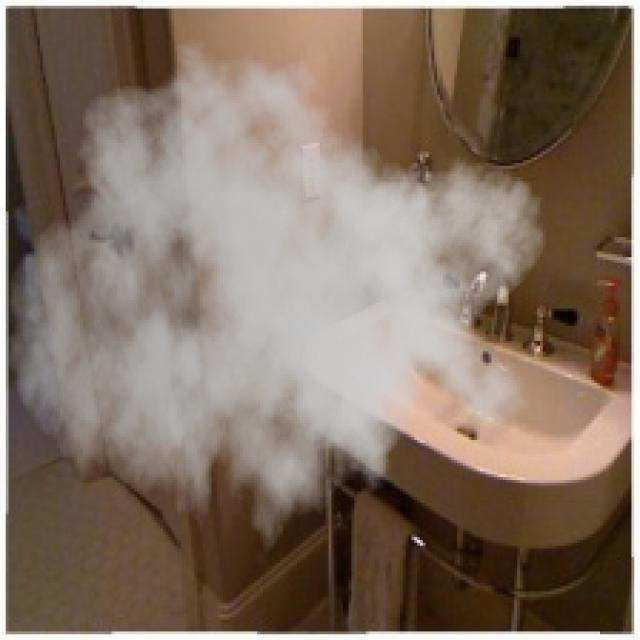Smoke: (6, 26, 548, 574)
